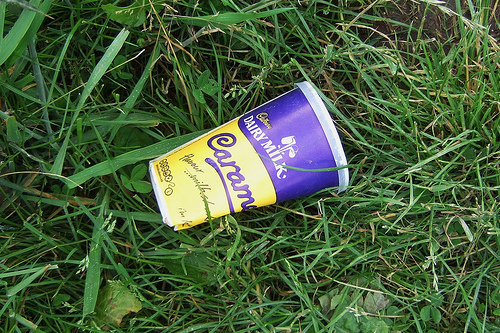litter: (147, 82, 348, 230)
